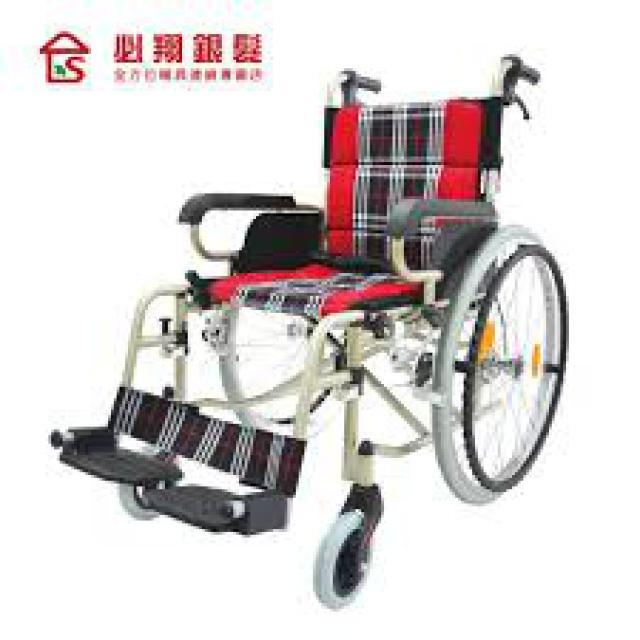wheelchair: (42, 45, 572, 618)
